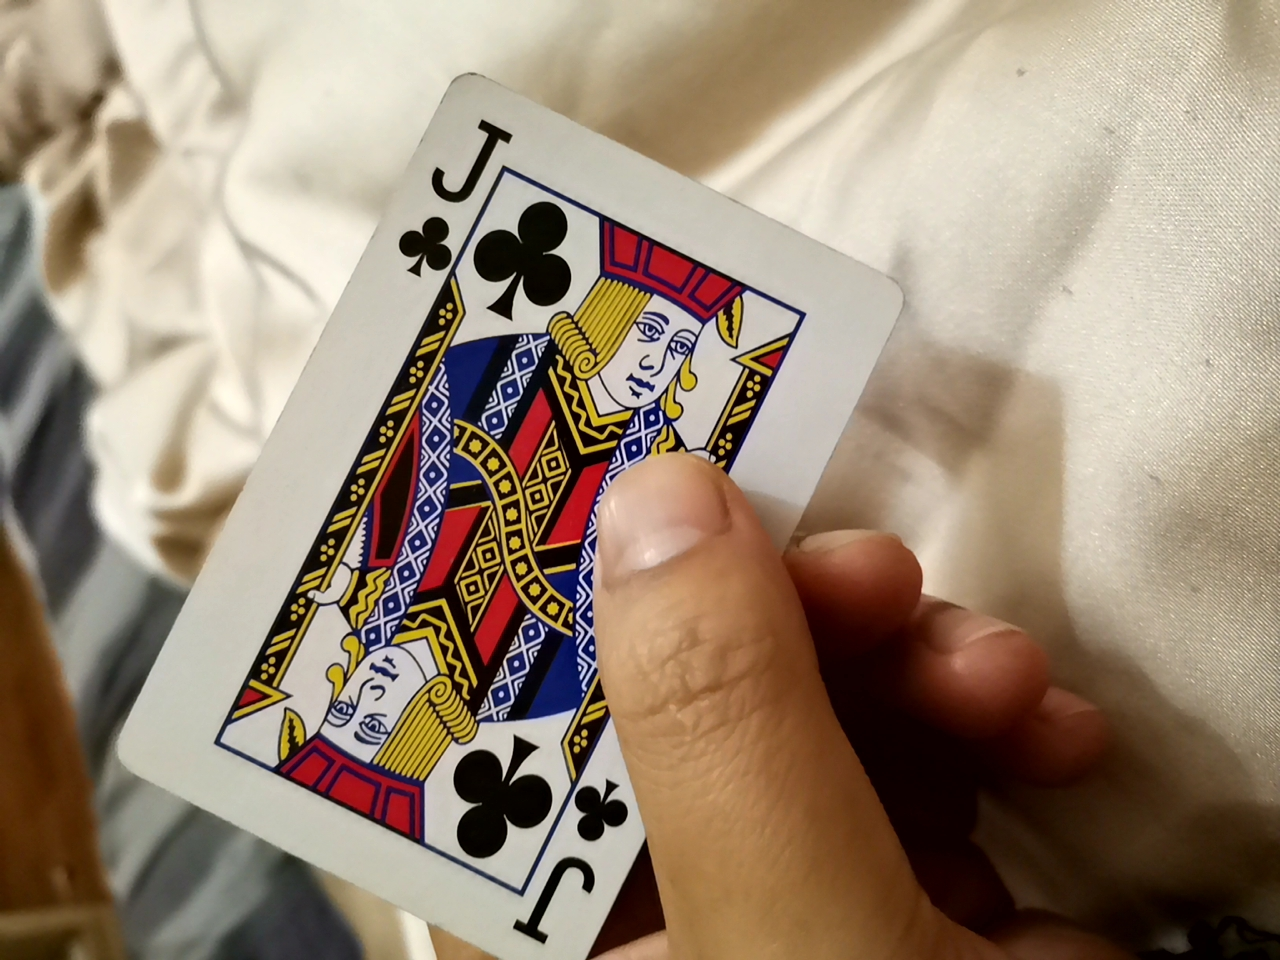mh j: (166, 57, 888, 937)
